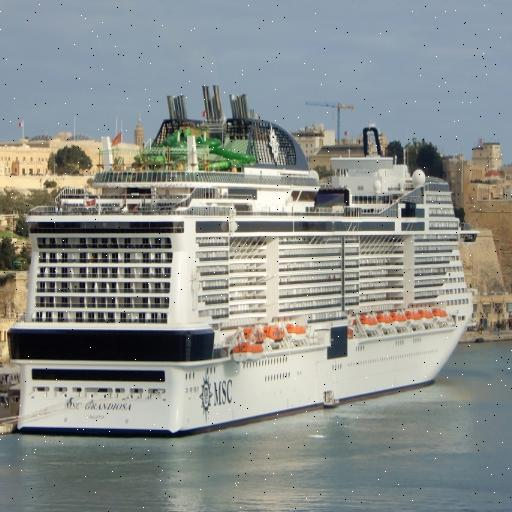cruises: (12, 90, 482, 445)
